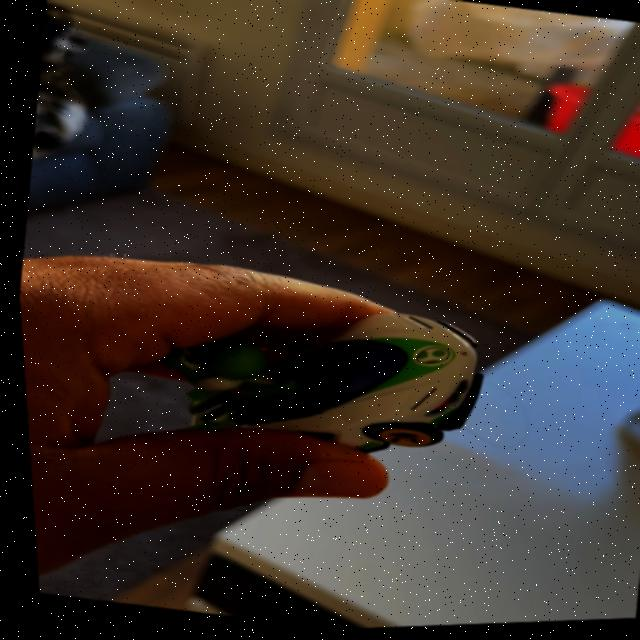yoshi: (132, 283, 482, 488)
